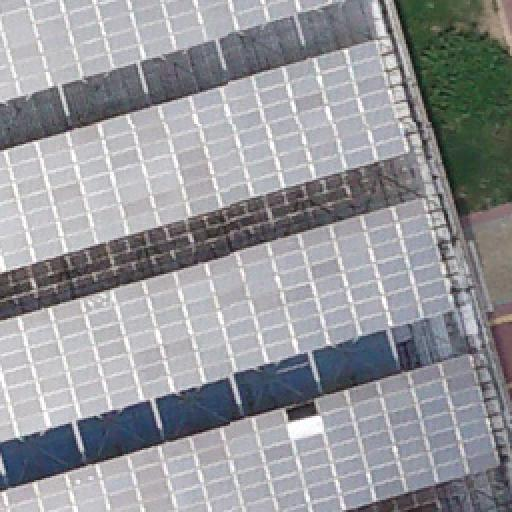solar-panel: (0, 198, 456, 442), (0, 41, 410, 271), (0, 352, 504, 512), (0, 0, 346, 104)
